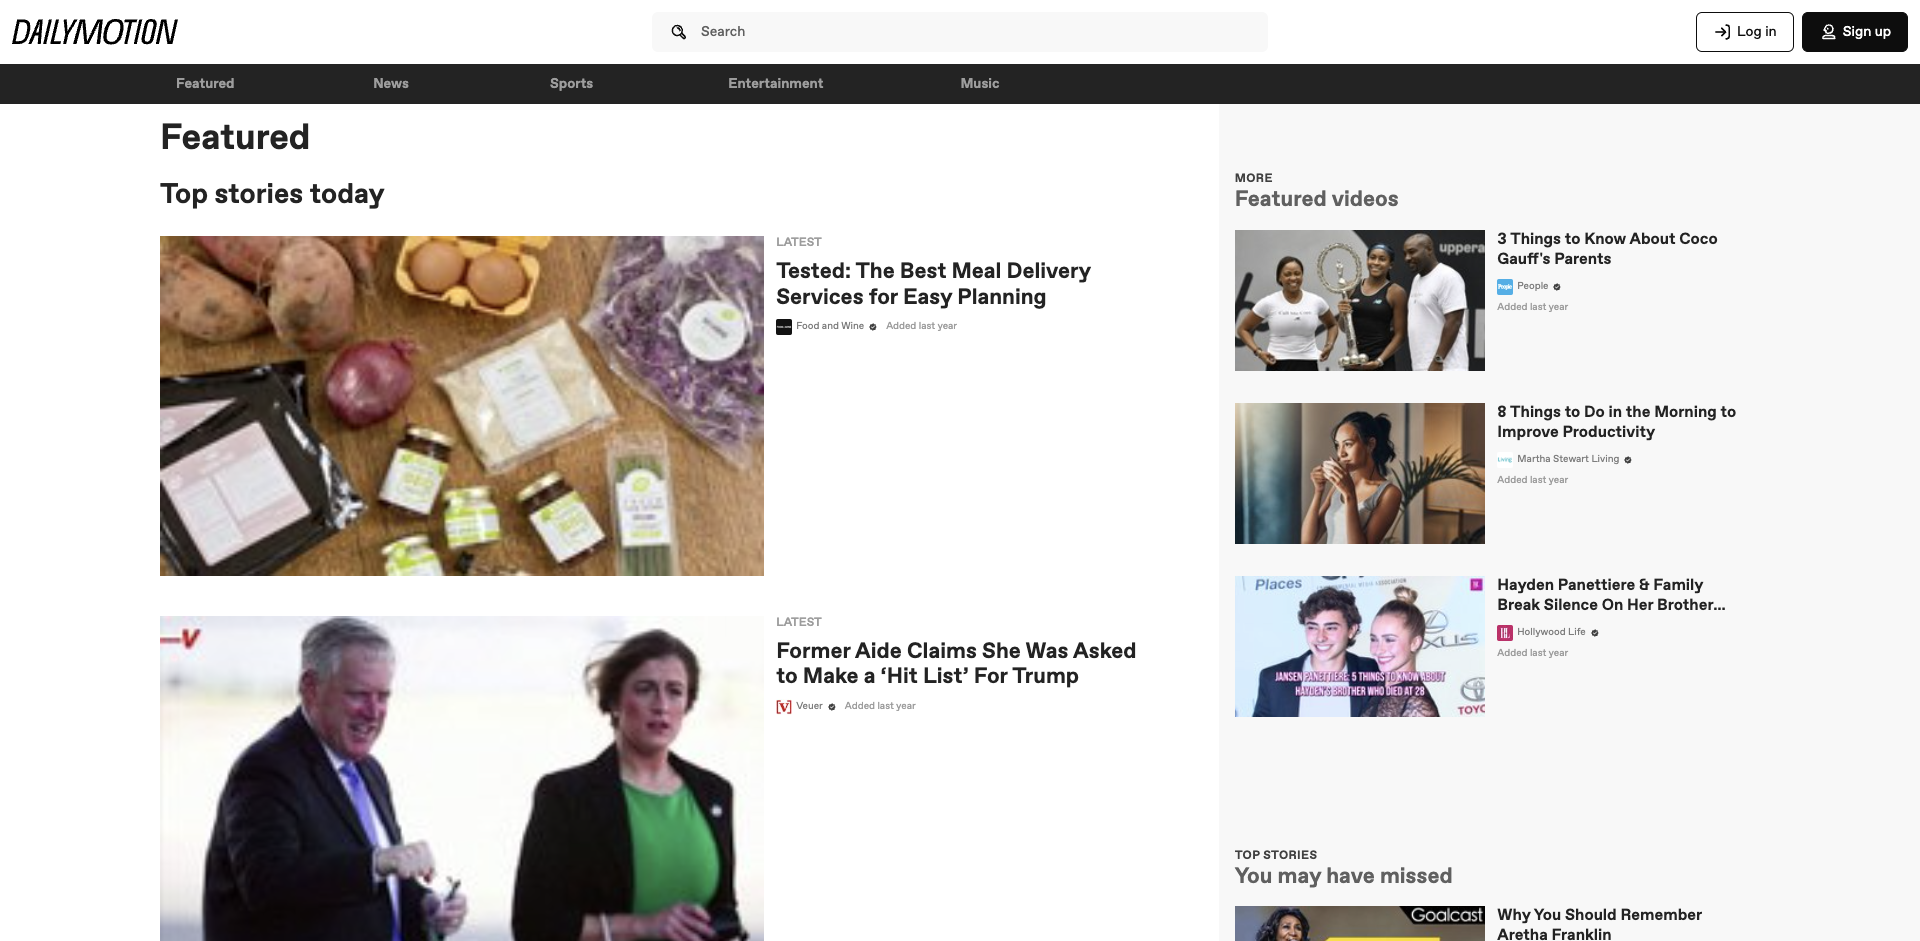button: (1280, 12, 1920, 51), (651, 12, 1269, 51), (1801, 12, 1908, 51), (1696, 12, 1794, 51)
link: (160, 235, 764, 576), (160, 615, 764, 941), (1234, 229, 1485, 371), (1234, 403, 1485, 544), (1234, 576, 1485, 717), (776, 637, 1136, 692), (1498, 575, 1725, 656), (776, 257, 1091, 312), (1498, 402, 1736, 442), (1498, 229, 1718, 270), (1234, 907, 1485, 941), (1498, 905, 1702, 941), (713, 64, 840, 104), (12, 20, 178, 45), (160, 64, 251, 104), (351, 64, 431, 104), (531, 64, 611, 104), (940, 64, 1020, 104), (1498, 452, 1619, 468), (776, 320, 864, 336), (1498, 625, 1586, 641), (1498, 279, 1549, 295), (776, 700, 823, 716)
